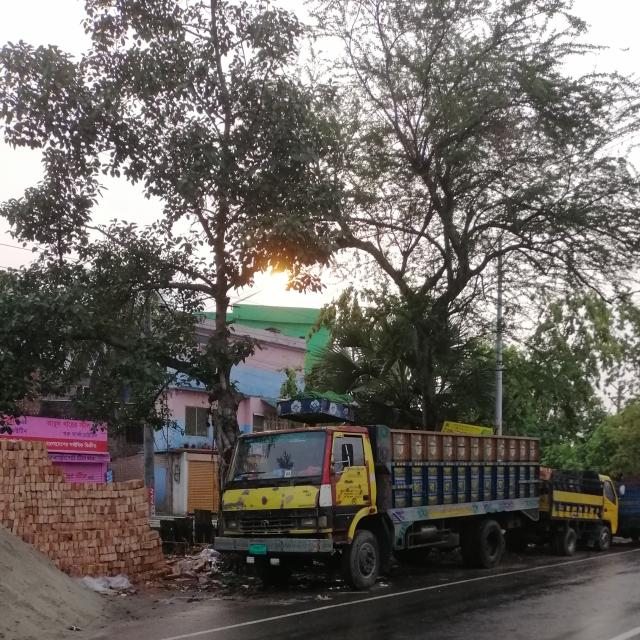Truck: (206, 394, 545, 589), (542, 469, 631, 559)
